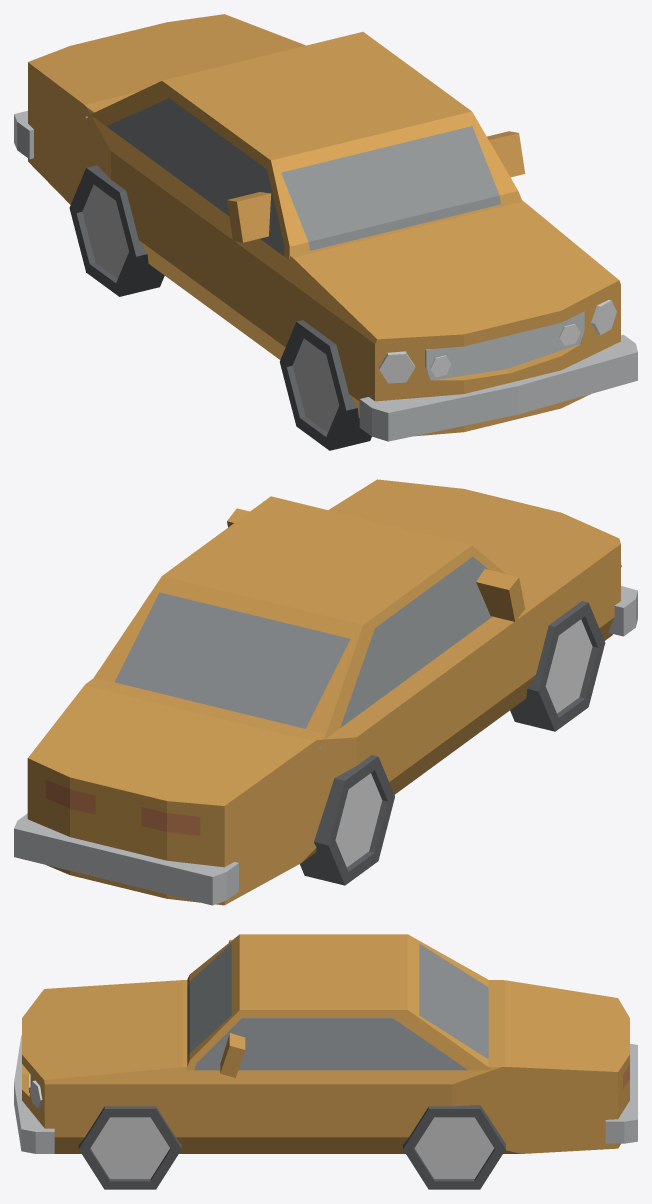
File: car.glb
The picture shows the model from 3 angles, top to bottom: view 1: azimuth 30°, elevation 25°; view 2: azimuth 150°, elevation 25°; view 3: azimuth 270°, elevation 25°; orthographic projection. The views are drawn at different scales.
Visible parts, largest first — view 1: Mesh_Mesh_head_geo.001_lambert2SG.001; view 2: Mesh_Mesh_head_geo.001_lambert2SG.001; view 3: Mesh_Mesh_head_geo.001_lambert2SG.001.
Part boxes in pixels (left/top/right/bottom): Mesh_Mesh_head_geo.001_lambert2SG.001: left=14, top=14, right=637, bottom=450; Mesh_Mesh_head_geo.001_lambert2SG.001: left=14, top=479, right=637, bottom=905; Mesh_Mesh_head_geo.001_lambert2SG.001: left=14, top=934, right=637, bottom=1189.
Size of the model in its own units: 0.031 by 0.023 by 0.077.
